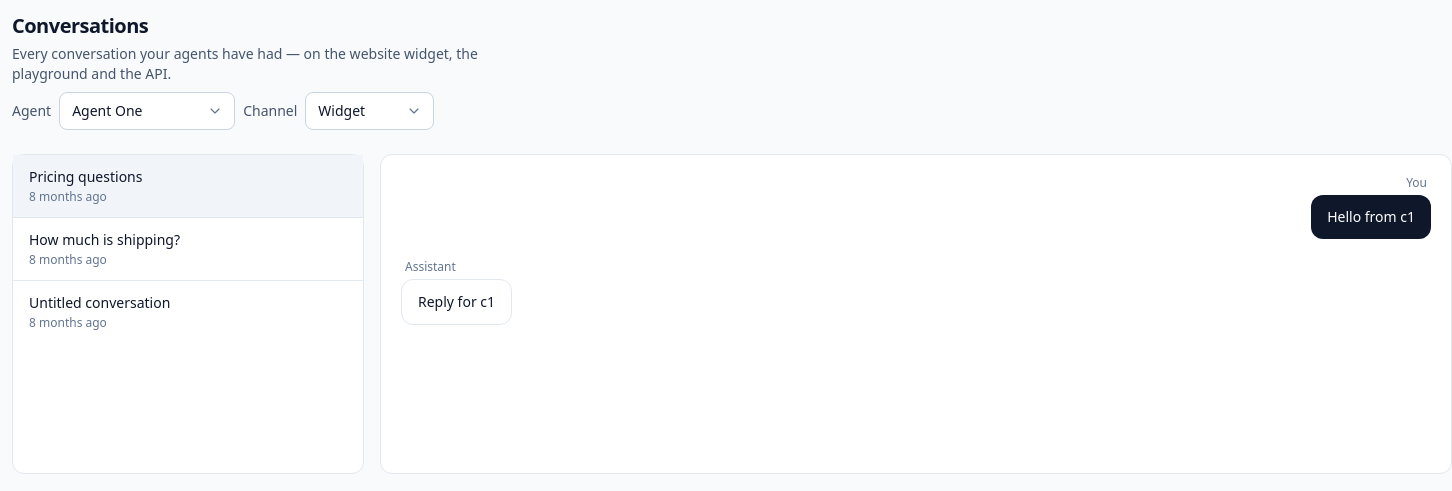
Test: ConversationsPage › keeps a newly selected row's conversation rather than the URL's original one
The image size is (1452, 491).
Expected: the text "Reply for c1" is shown, [418,292,495,312]
Click the text "How much is shipping?": click(105, 240) [29,230,180,249]
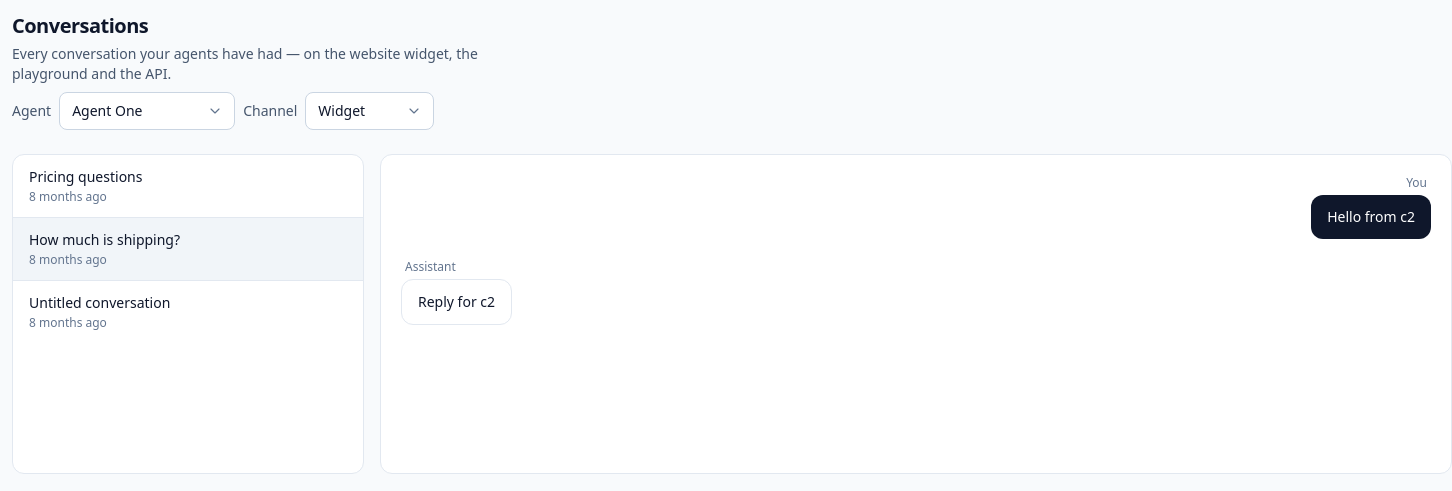
Result: the text "Reply for c2" is shown at [418,292,495,312]
Result: the text "Reply for c1" is gone
Result: the text "Hello from c1" is gone
